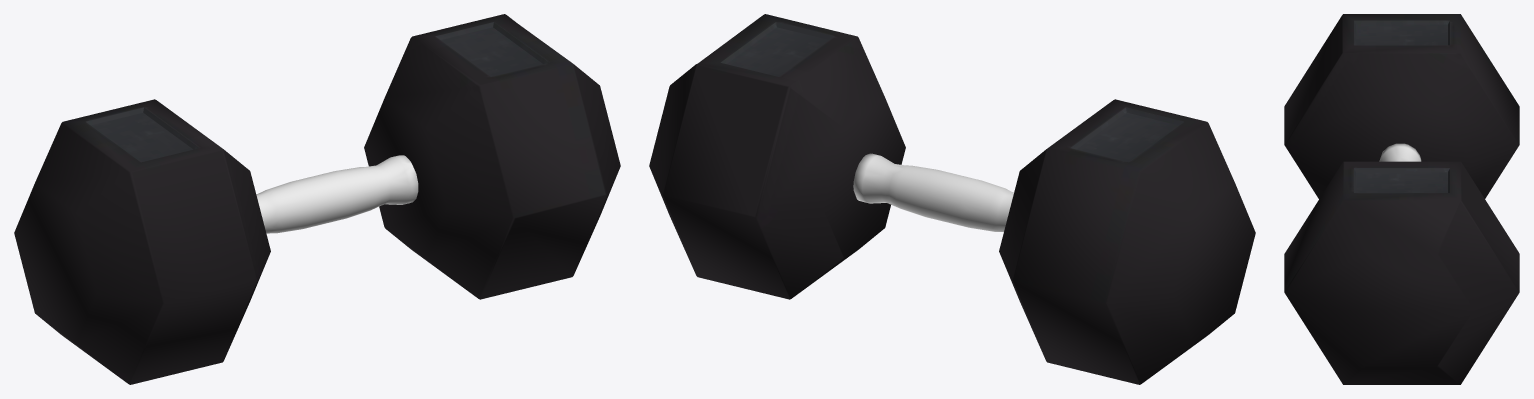
The model's file is haltere_a.glb.
3 views of the same model, side by side, from view 1: azimuth 30°, elevation 25°; view 2: azimuth 150°, elevation 25°; view 3: azimuth 270°, elevation 25° (orthographic). The views are drawn at different scales.
Parts seen in each view (by area): view 1: RootNode; view 2: RootNode; view 3: RootNode.
Boxes of the visible parts, x1,y1,x2,y2 form: RootNode: [14, 14, 620, 384]; RootNode: [649, 14, 1255, 384]; RootNode: [1284, 14, 1519, 384].
Size of the model in its own units: 0.2708 by 0.106 by 0.1217.
1 material, 1 textured.
